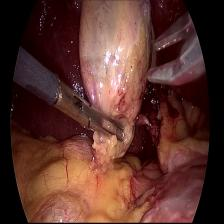Clipper: (141, 13, 198, 96)
Grasper: (43, 68, 128, 151)
